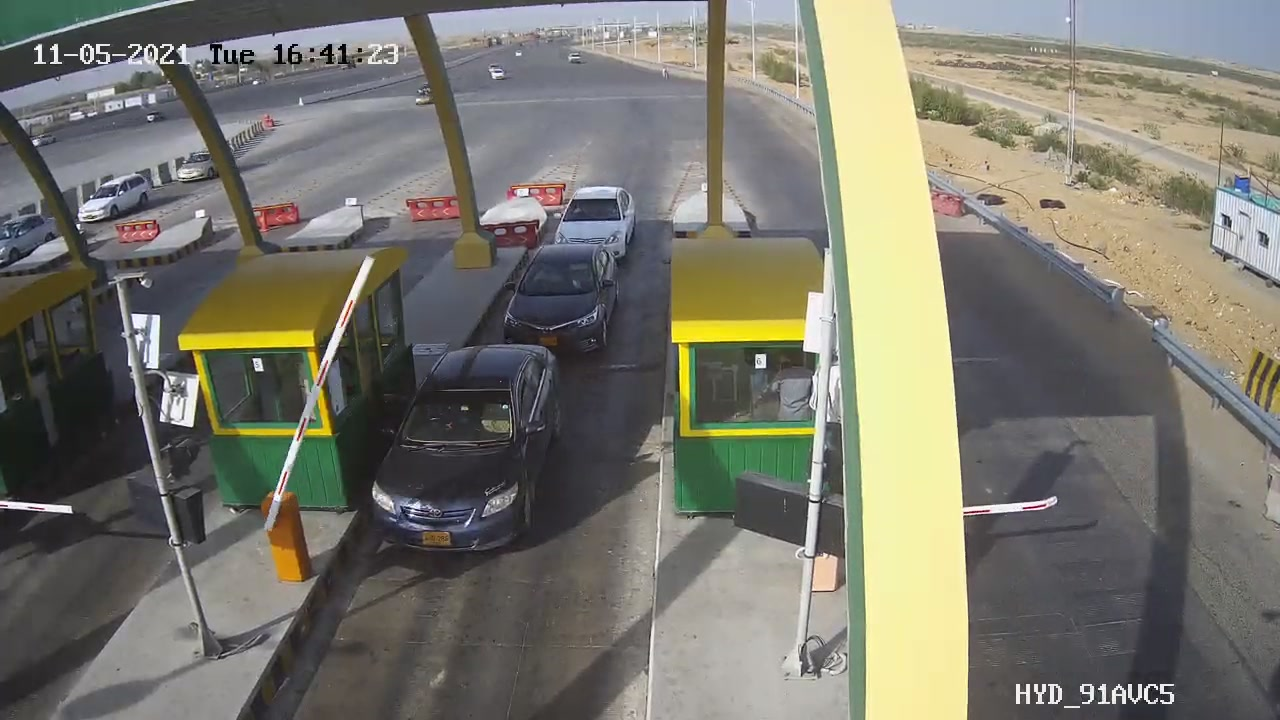F1: (354, 332, 581, 569), (488, 232, 635, 364), (542, 175, 653, 266)
